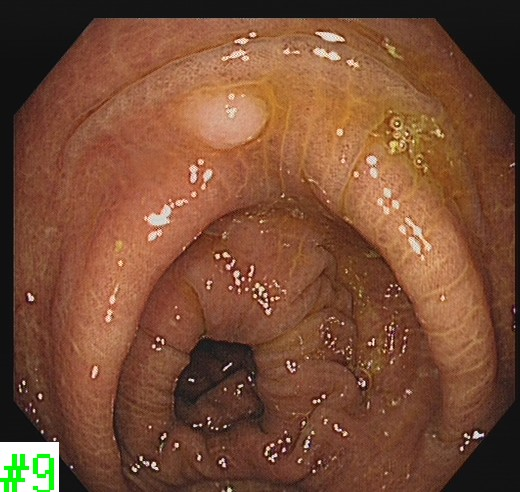adenoma: (183, 90, 271, 152)
